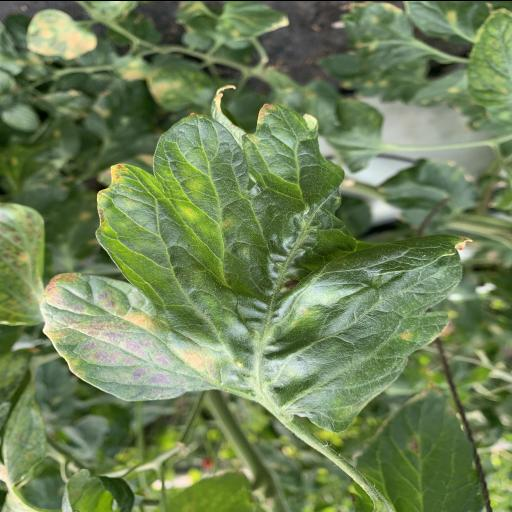disease_tomato: (39, 101, 459, 431)
